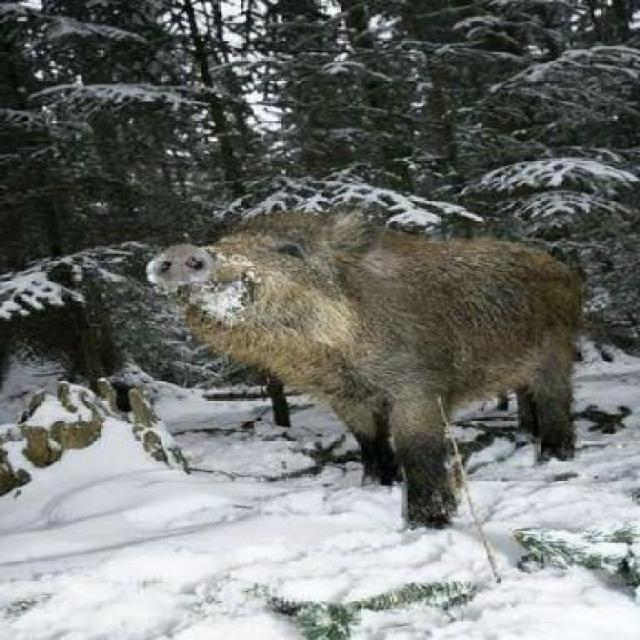Boar: (119, 164, 592, 534)
